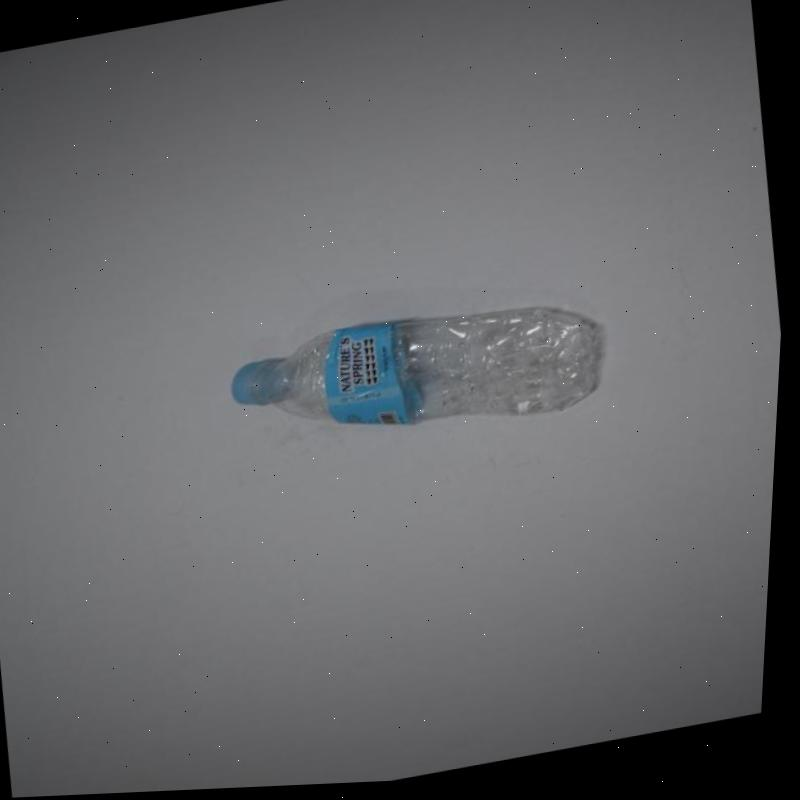botella: (223, 285, 618, 474)
